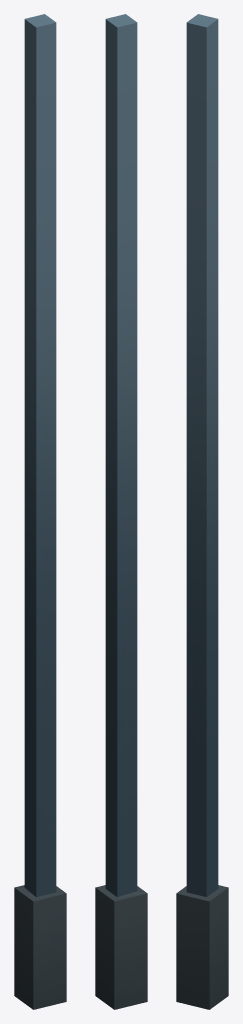
File: Post1.fbx
The picture shows the model from 3 angles, left to right: view 1: azimuth 30°, elevation 25°; view 2: azimuth 210°, elevation 25°; view 3: azimuth 330°, elevation 25°; orthographic projection.
Visible parts, largest first — view 1: Post1; view 2: Post1; view 3: Post1.
Part boxes in pixels (x1,y1,x2,y2): Post1: (14,14,66,1009); Post1: (95,14,147,1009); Post1: (176,14,228,1009).
Bounding box in the file's own units: 0.1421 × 0.1421 × 4.
